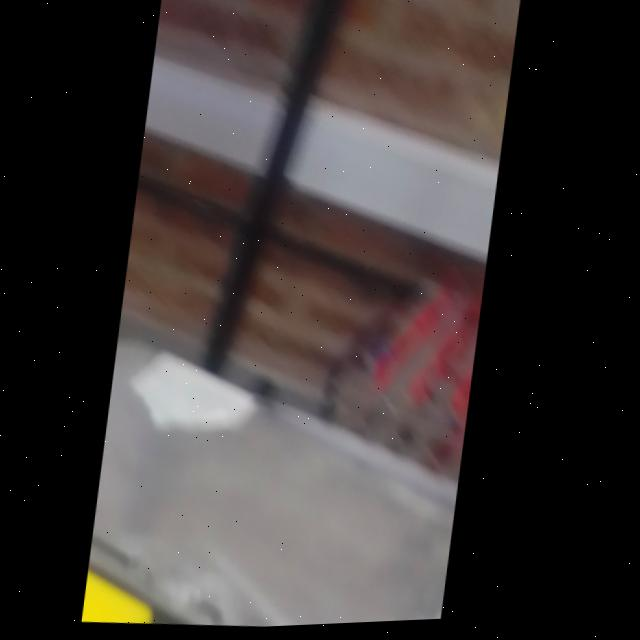yellowBox: (89, 492, 193, 628)
